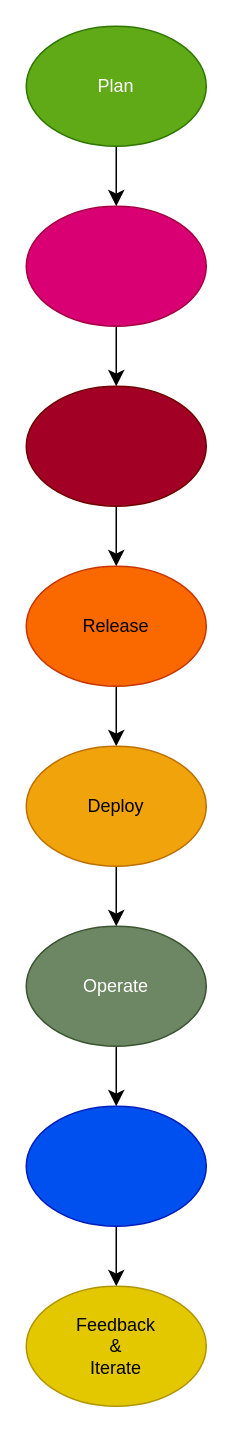
The diagram is 233 pixels wide and 1433 high, and some of its shapes have lost their labels. The box of each missing label's shape, as (x1, y1, x2, y2) in pixels:
Build & Test: (25, 385, 206, 506)
Develop: (25, 205, 206, 326)
Monitor: (25, 1105, 206, 1226)
